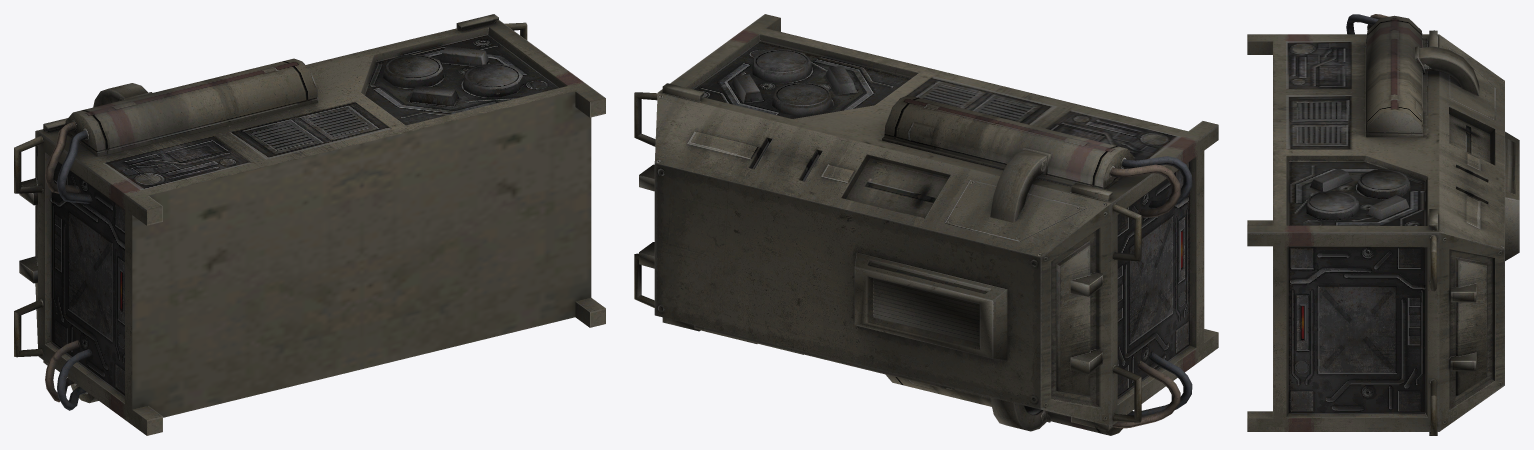
Rendered from power_generator_flesher.DAE.
3 views of the same model, side by side, from view 1: azimuth 30°, elevation 25°; view 2: azimuth 150°, elevation 25°; view 3: azimuth 270°, elevation 25° (orthographic). The views are drawn at different scales.
Parts seen in each view (by area): view 1: power_generator_flesher; view 2: power_generator_flesher; view 3: power_generator_flesher.
Part boxes in pixels (x1,y1,x2,y2): power_generator_flesher: [14, 14, 605, 435]; power_generator_flesher: [634, 14, 1218, 435]; power_generator_flesher: [1247, 14, 1519, 435].
Bounding box in the file's own units: 200 × 103 × 105.
